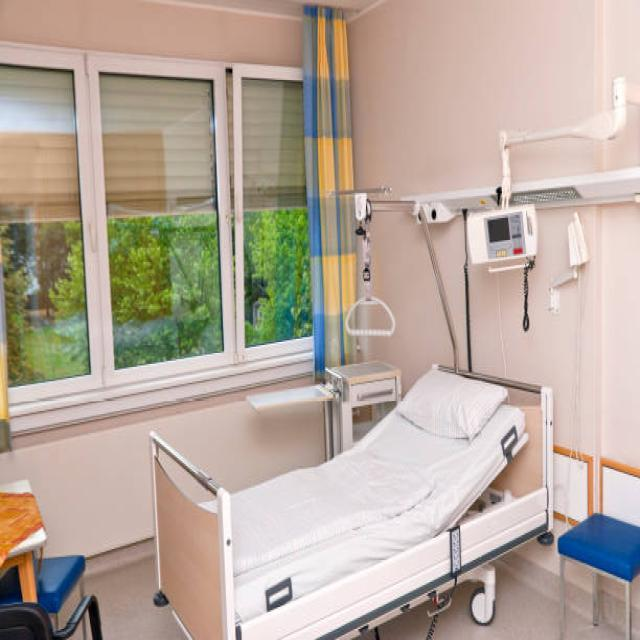Monitor: (457, 183, 542, 301)
bed: (148, 362, 554, 638)
stool: (535, 503, 640, 640)
